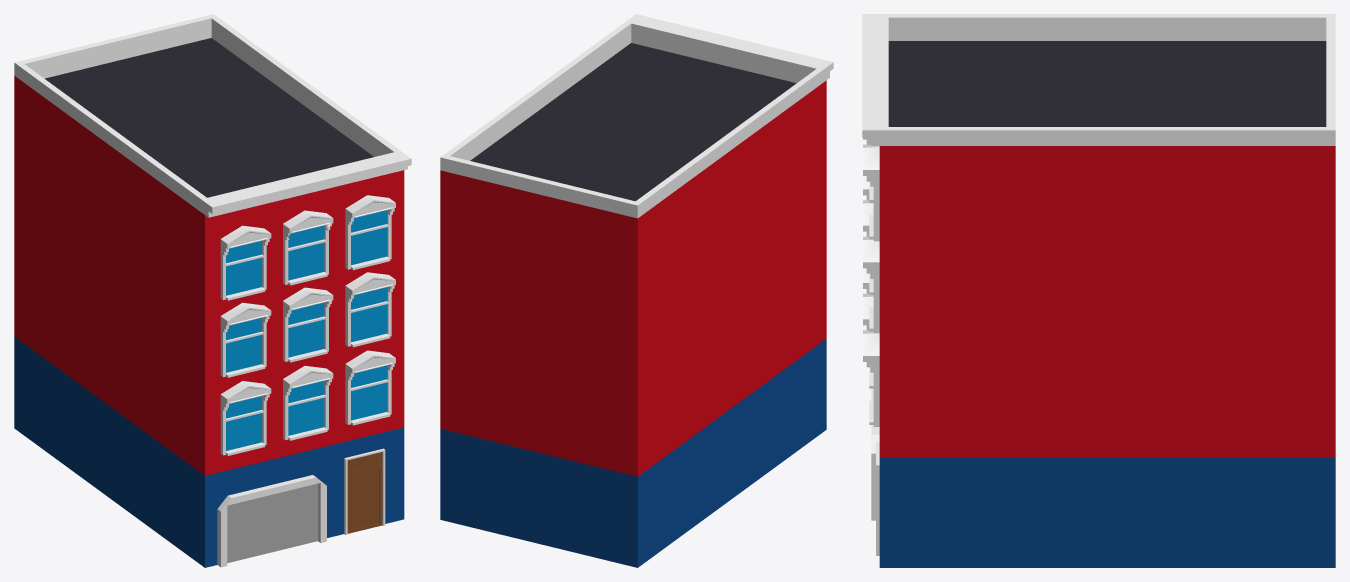
Rendered from Building_13.fbx.
The picture shows the model from 3 angles, left to right: view 1: azimuth 30°, elevation 25°; view 2: azimuth 150°, elevation 25°; view 3: azimuth 270°, elevation 25°; orthographic projection. The views are drawn at different scales.
Visible parts, largest first — view 1: B13; view 2: B13; view 3: B13.
Boxes of the visible parts, x1,y1,x2,y2 form: B13: [14, 14, 411, 567]; B13: [440, 14, 833, 567]; B13: [862, 14, 1335, 567].
Bounding box in the file's own units: 9.85 × 17.28 × 16.93.
Materials: 1 (1 with a texture image).
